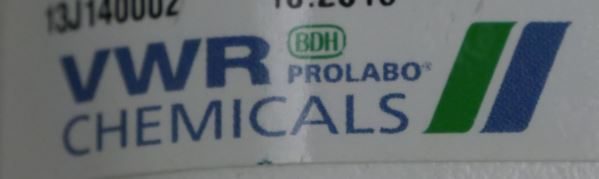VWR: (53, 18, 575, 161)
